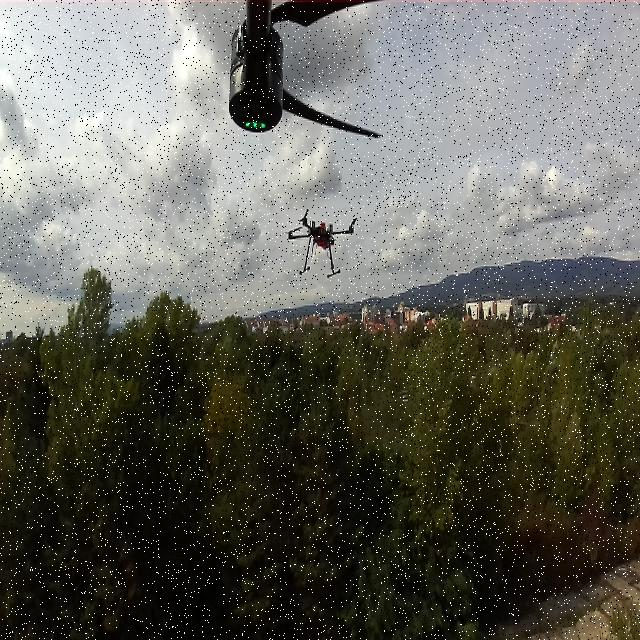UAV: (277, 202, 367, 280)
